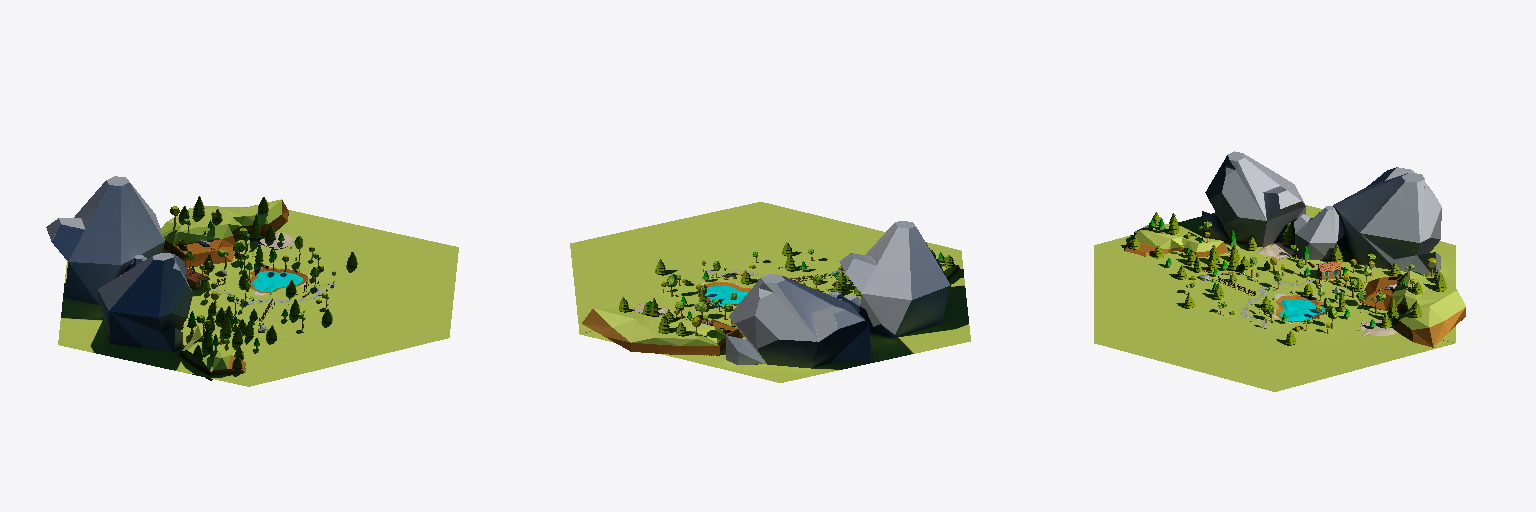
3 views of the same model, side by side, from view 1: azimuth 30°, elevation 25°; view 2: azimuth 150°, elevation 25°; view 3: azimuth 270°, elevation 25° (orthographic).
Visible parts, largest first — view 1: Mesh161 G_3DGeom_3 G_3DGeom_8 Assembly_1 SimLab_skp Assembly_2 M, Mesh532 G_3DGeom_9 Assembly_1 SimLab_skp Assembly_2 Model, Mesh536 G_3DGeom_9 Assembly_1 SimLab_skp Assembly_2 Model, Mesh213 G_3DGeom_4 G_3DGeom_8 Assembly_1 SimLab_skp Assembly_2 M, Mesh324 G_3DGeom_7 G_3DGeom_6_1 Assembly_1 SimLab_skp Assembly_2, Mesh212 G_3DGeom_4 G_3DGeom_8 Assembly_1 SimLab_skp Assembly_2 M, Mesh358 G_3DGeom_3_1 Assembly_1 SimLab_skp Assembly_2 Model; view 2: Mesh161 G_3DGeom_3 G_3DGeom_8 Assembly_1 SimLab_skp Assembly_2 M, Mesh532 G_3DGeom_9 Assembly_1 SimLab_skp Assembly_2 Model, Mesh536 G_3DGeom_9 Assembly_1 SimLab_skp Assembly_2 Model, Mesh213 G_3DGeom_4 G_3DGeom_8 Assembly_1 SimLab_skp Assembly_2 M, Mesh324 G_3DGeom_7 G_3DGeom_6_1 Assembly_1 SimLab_skp Assembly_2, Mesh358 G_3DGeom_3_1 Assembly_1 SimLab_skp Assembly_2 Model; view 3: Mesh161 G_3DGeom_3 G_3DGeom_8 Assembly_1 SimLab_skp Assembly_2 M, Mesh532 G_3DGeom_9 Assembly_1 SimLab_skp Assembly_2 Model, Mesh536 G_3DGeom_9 Assembly_1 SimLab_skp Assembly_2 Model, Mesh213 G_3DGeom_4 G_3DGeom_8 Assembly_1 SimLab_skp Assembly_2 M, Mesh534 G_3DGeom_9 Assembly_1 SimLab_skp Assembly_2 Model, Mesh324 G_3DGeom_7 G_3DGeom_6_1 Assembly_1 SimLab_skp Assembly_2, Mesh212 G_3DGeom_4 G_3DGeom_8 Assembly_1 SimLab_skp Assembly_2 M, Mesh358 G_3DGeom_3_1 Assembly_1 SimLab_skp Assembly_2 Model.
Part boxes in pixels (x1,y1,x2,y2): Mesh161 G_3DGeom_3 G_3DGeom_8 Assembly_1 SimLab_skp Assembly_2 M: (58, 210, 458, 386); Mesh532 G_3DGeom_9 Assembly_1 SimLab_skp Assembly_2 Model: (46, 176, 164, 304); Mesh536 G_3DGeom_9 Assembly_1 SimLab_skp Assembly_2 Model: (98, 253, 192, 351); Mesh213 G_3DGeom_4 G_3DGeom_8 Assembly_1 SimLab_skp Assembly_2 M: (161, 199, 281, 244); Mesh324 G_3DGeom_7 G_3DGeom_6_1 Assembly_1 SimLab_skp Assembly_2: (164, 200, 288, 267); Mesh212 G_3DGeom_4 G_3DGeom_8 Assembly_1 SimLab_skp Assembly_2 M: (180, 325, 230, 371); Mesh358 G_3DGeom_3_1 Assembly_1 SimLab_skp Assembly_2 Model: (252, 271, 302, 291); Mesh161 G_3DGeom_3 G_3DGeom_8 Assembly_1 SimLab_skp Assembly_2 M: (570, 202, 970, 382); Mesh532 G_3DGeom_9 Assembly_1 SimLab_skp Assembly_2 Model: (726, 274, 870, 368); Mesh536 G_3DGeom_9 Assembly_1 SimLab_skp Assembly_2 Model: (839, 221, 950, 337); Mesh213 G_3DGeom_4 G_3DGeom_8 Assembly_1 SimLab_skp Assembly_2 M: (594, 309, 725, 345); Mesh324 G_3DGeom_7 G_3DGeom_6_1 Assembly_1 SimLab_skp Assembly_2: (582, 309, 743, 355); Mesh358 G_3DGeom_3_1 Assembly_1 SimLab_skp Assembly_2 Model: (705, 285, 747, 305); Mesh161 G_3DGeom_3 G_3DGeom_8 Assembly_1 SimLab_skp Assembly_2 M: (1094, 205, 1455, 391); Mesh532 G_3DGeom_9 Assembly_1 SimLab_skp Assembly_2 Model: (1333, 167, 1441, 273); Mesh536 G_3DGeom_9 Assembly_1 SimLab_skp Assembly_2 Model: (1202, 151, 1305, 246); Mesh213 G_3DGeom_4 G_3DGeom_8 Assembly_1 SimLab_skp Assembly_2 M: (1391, 271, 1465, 329); Mesh534 G_3DGeom_9 Assembly_1 SimLab_skp Assembly_2 Model: (1294, 206, 1345, 260); Mesh324 G_3DGeom_7 G_3DGeom_6_1 Assembly_1 SimLab_skp Assembly_2: (1359, 275, 1465, 347); Mesh212 G_3DGeom_4 G_3DGeom_8 Assembly_1 SimLab_skp Assembly_2 M: (1132, 224, 1222, 251); Mesh358 G_3DGeom_3_1 Assembly_1 SimLab_skp Assembly_2 Model: (1280, 299, 1324, 321).
Size of the model in its own units: 103 by 21.22 by 82.5.
29 materials, 27 textured.